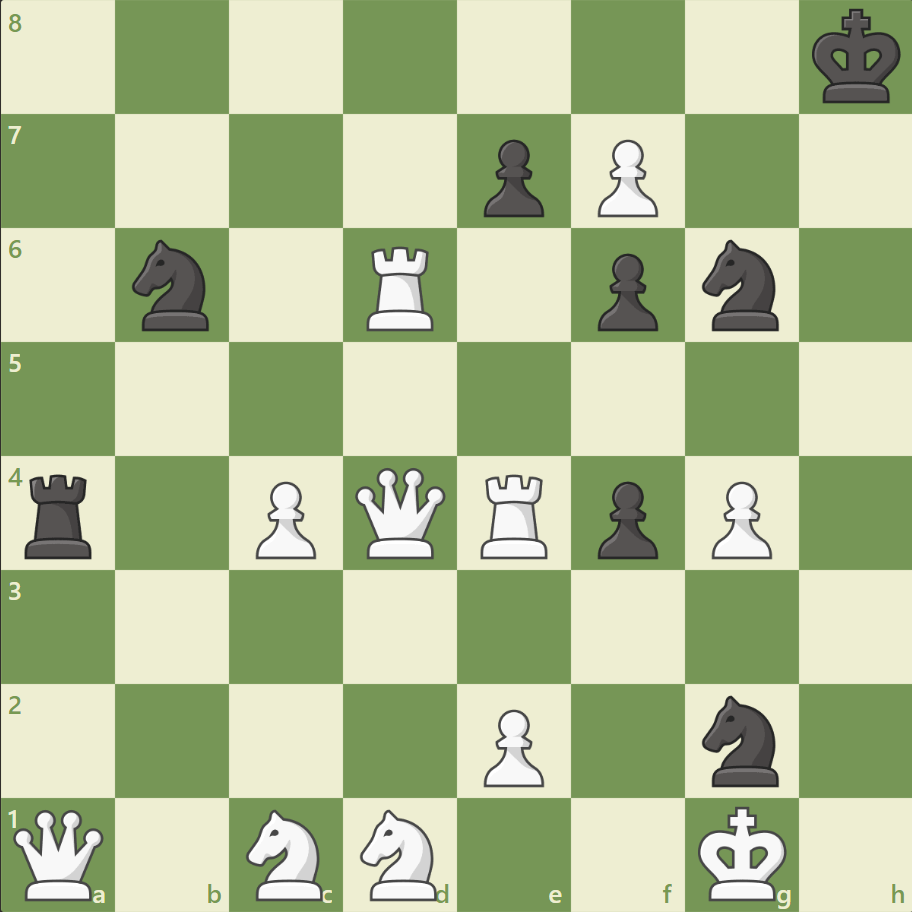K: (692, 798, 792, 906)
N: (351, 802, 449, 904), (238, 802, 335, 904)
P: (247, 473, 322, 564), (701, 473, 776, 564), (474, 700, 549, 791), (588, 132, 662, 223)
Q: (351, 463, 450, 562), (10, 804, 109, 903)
R: (473, 466, 556, 563), (360, 239, 442, 336)
k: (806, 4, 906, 112)
n: (124, 234, 222, 337), (692, 234, 789, 337), (692, 688, 789, 791)
p: (474, 132, 549, 223), (588, 246, 662, 337), (588, 473, 662, 564)
r: (19, 466, 102, 563)
